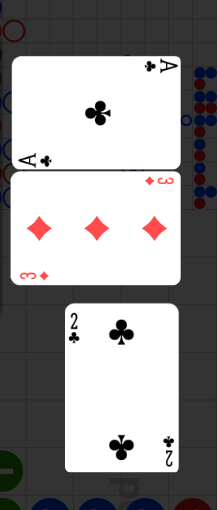2C: (161, 433, 175, 468)
3D: (142, 176, 174, 188)
AC: (139, 58, 178, 76)
